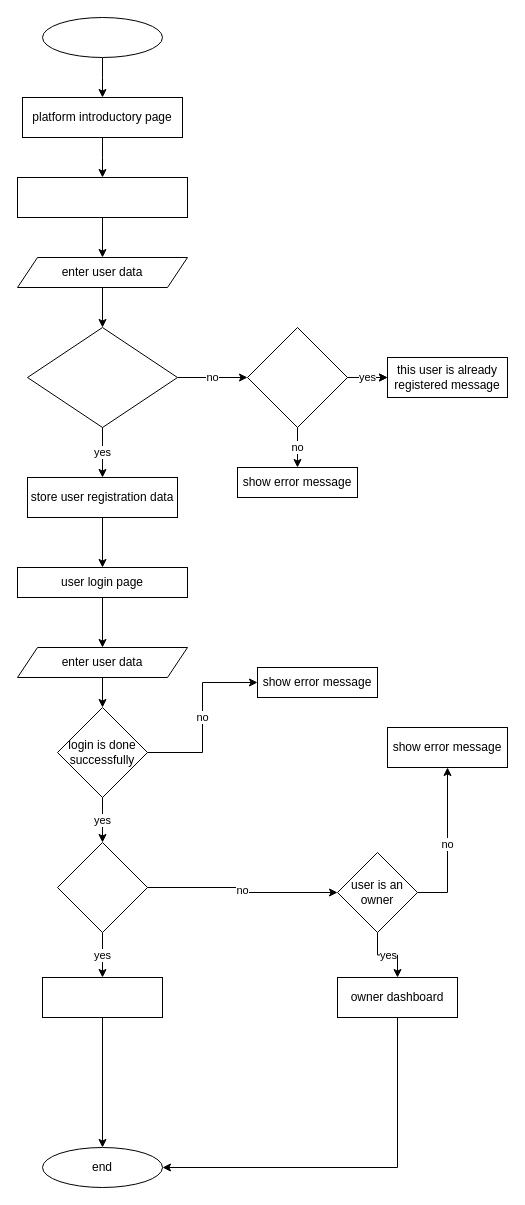
Some shapes in this 525 by 1205 pixel diagram are drawn without their labels. Each missing label, with the centre of its shape:
registration is successfully done: the point at 102,377
Start: the point at 102,37
student dashboard: the point at 102,997
the user has already registered: the point at 297,377
user is a student: the point at 102,887
user registration page: the point at 102,197
